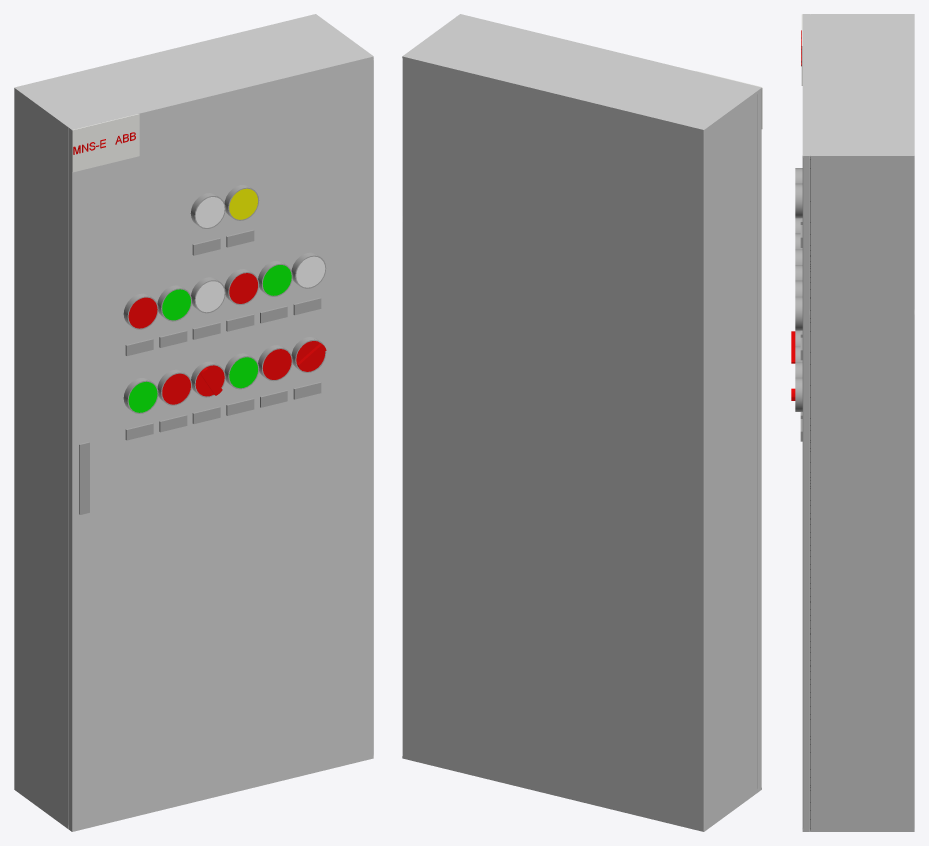
File: ktkzg.glb
3 renders of one model, left to right at view 1: azimuth 30°, elevation 25°; view 2: azimuth 150°, elevation 25°; view 3: azimuth 270°, elevation 25°, orthographic. The views are drawn at different scales.
Parts seen in each view (by area): view 1: 冷站控制柜; view 2: 冷站控制柜; view 3: 冷站控制柜.
Part boxes in pixels (<box>): 冷站控制柜: <box>14,14,373,831</box>; 冷站控制柜: <box>402,14,762,831</box>; 冷站控制柜: <box>791,14,914,831</box>.
Bounding box in the file's own units: 0.8998 × 2 × 0.3299.
